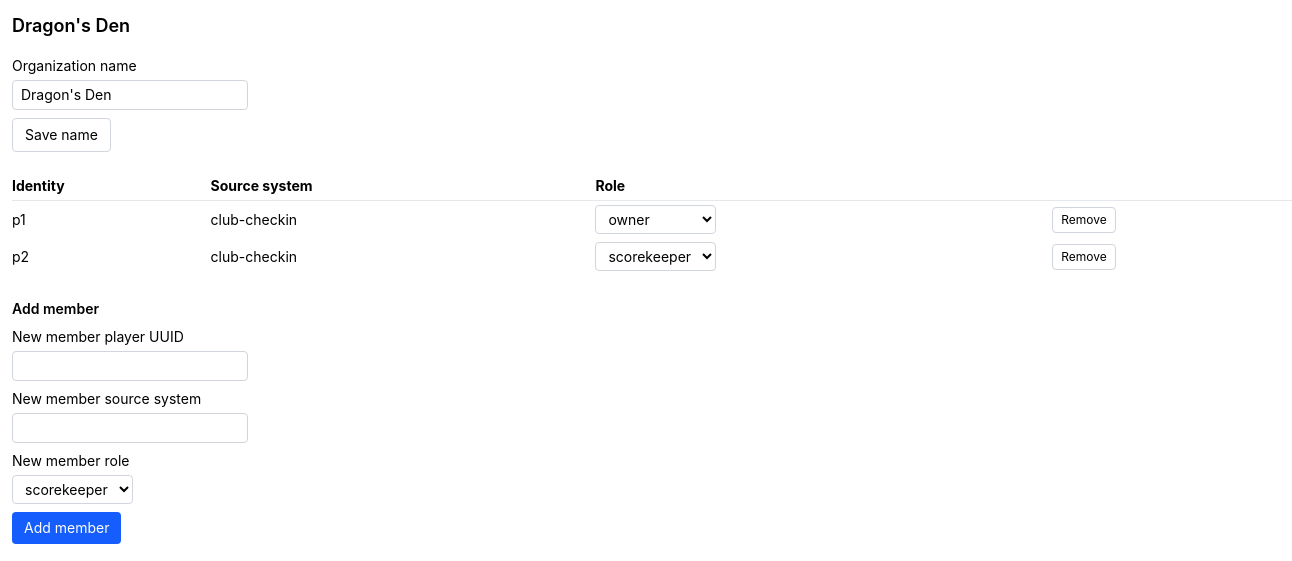
it: OrganizationDetail › renames the organization
Expected: the heading "Dragon's Den" is shown, [12, 15, 130, 36]
Replace the text in the field labelled "Organization name" with "New Name" at {"x": 130, "y": 95}, box [12, 80, 248, 110]
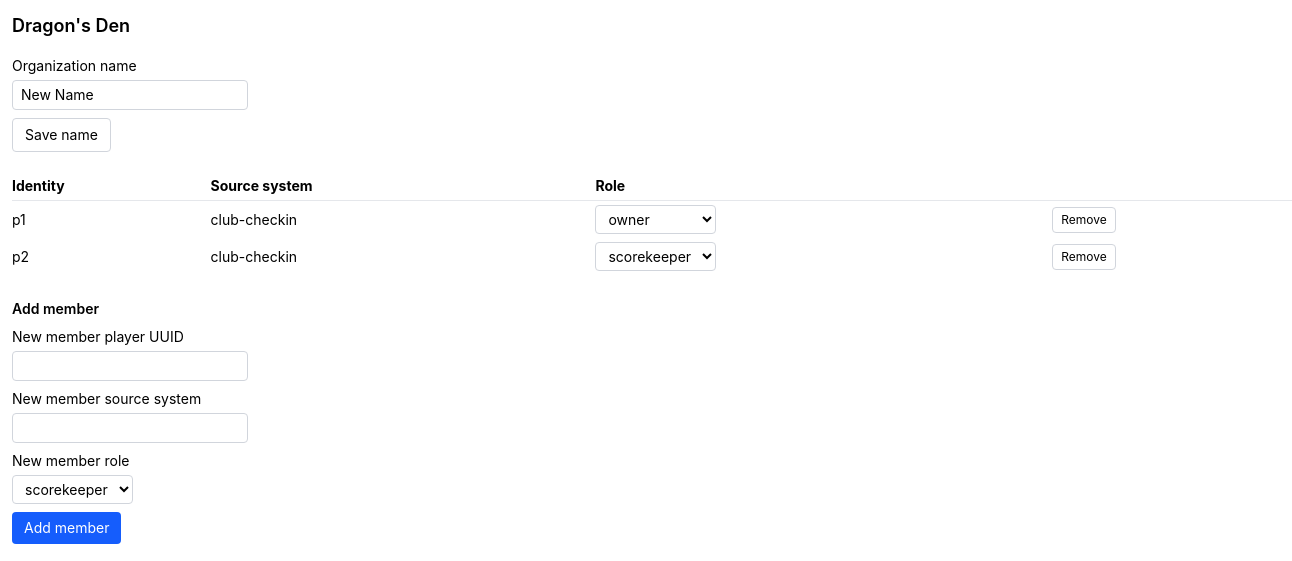
Click the button "Save name".
click(61, 135)  # box [12, 118, 111, 152]
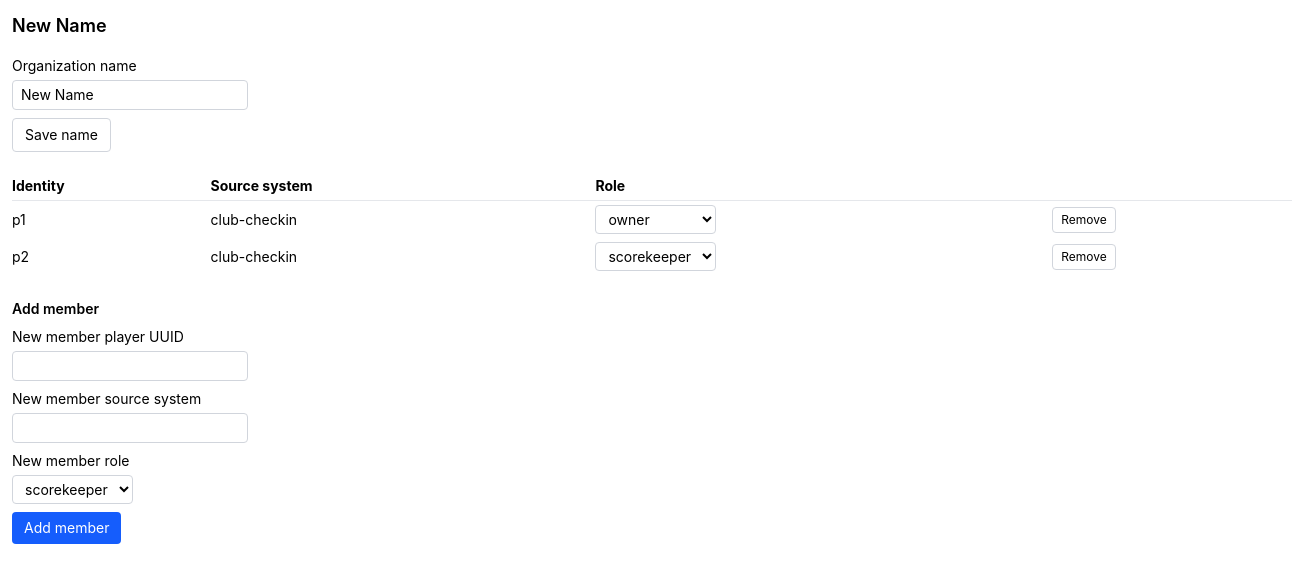
Expected: the heading "New Name" is shown, [12, 15, 106, 36]
